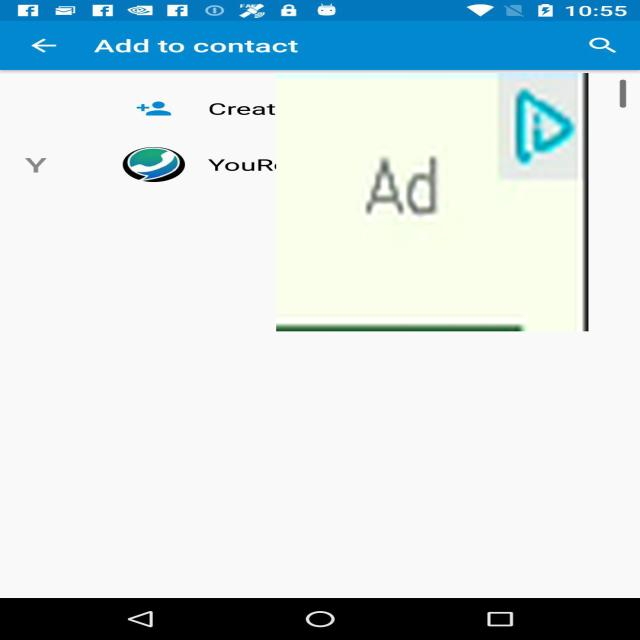sneaking: (276, 73, 589, 331)
